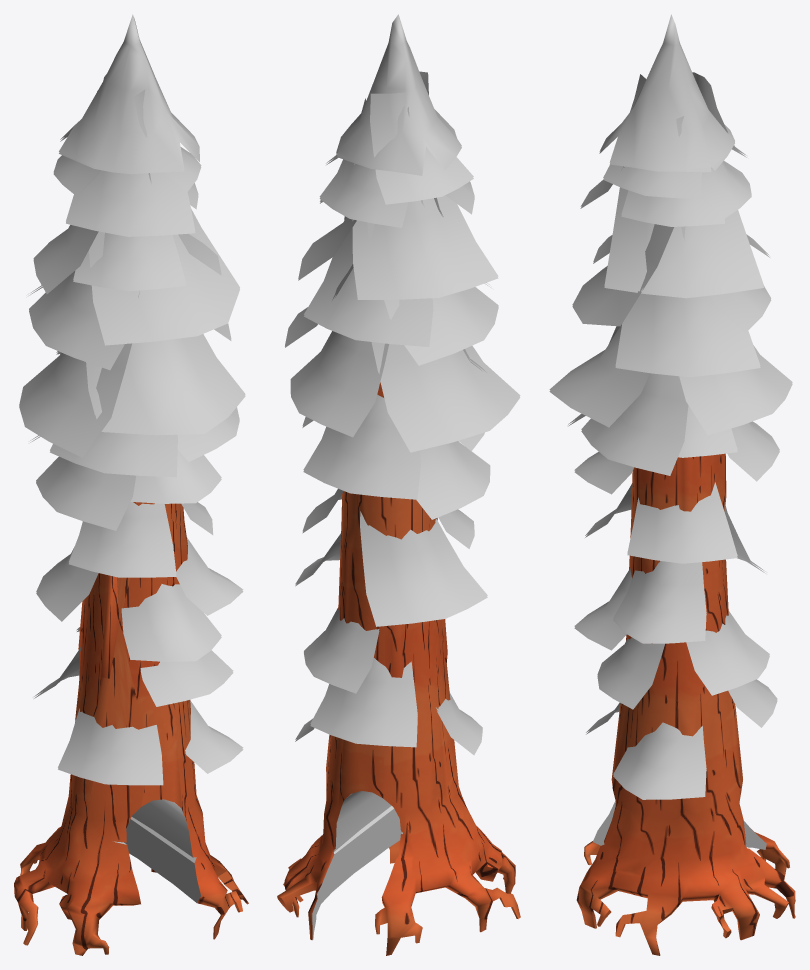
File: Tree04-tunnel.fbx
3 renders of one model, left to right at view 1: azimuth 30°, elevation 25°; view 2: azimuth 150°, elevation 25°; view 3: azimuth 270°, elevation 25°, orthographic.
Visible parts, largest first — view 1: Tree04-tunnel; view 2: Tree04-tunnel; view 3: Tree04-tunnel.
Boxes of the visible parts, x1,y1,x2,y2 form: Tree04-tunnel: [14, 14, 248, 955]; Tree04-tunnel: [277, 14, 520, 955]; Tree04-tunnel: [549, 14, 795, 955].
Size of the model in its own units: 955 by 3770 by 941.
